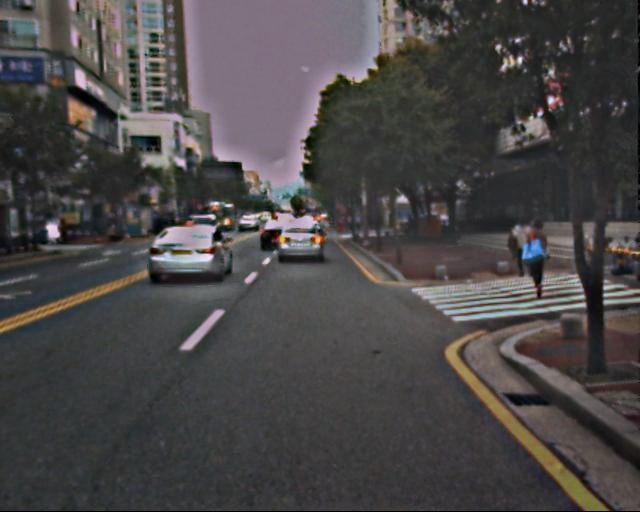person: (519, 218, 552, 299), (509, 215, 535, 278)
